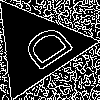D: (12, 22, 75, 79)
